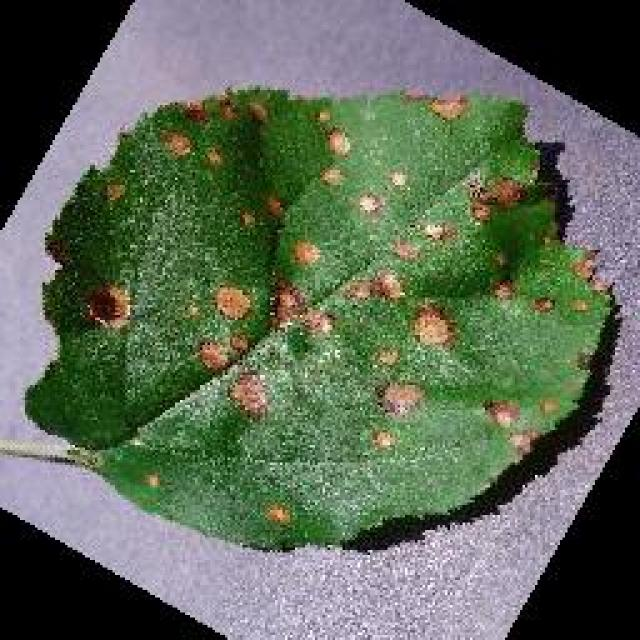apple healthy: (20, 82, 622, 552)
